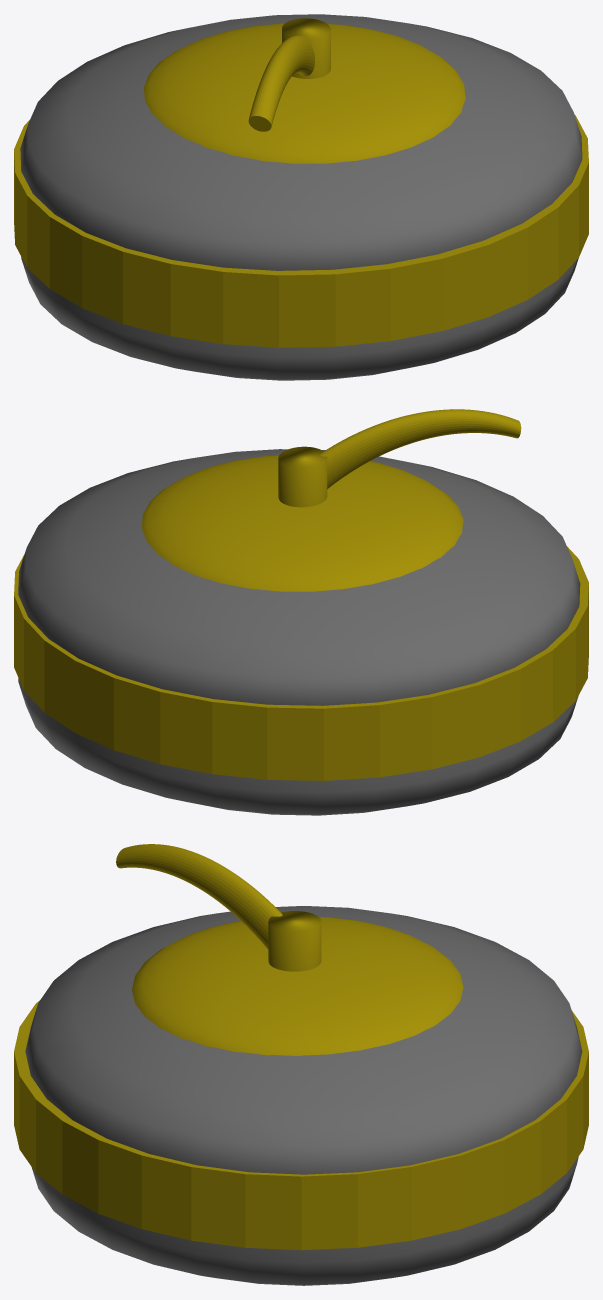
File: yellow_rock2.0.glb
The picture shows the model from 3 angles, top to bottom: view 1: azimuth 30°, elevation 25°; view 2: azimuth 150°, elevation 25°; view 3: azimuth 270°, elevation 25°; orthographic projection.
Parts seen in each view (by area): view 1: Sphere, Cylinder.002, Sphere.001, Cylinder, Cylinder.001; view 2: Sphere, Cylinder.002, Sphere.001, Cylinder, Cylinder.001; view 3: Sphere, Cylinder.002, Sphere.001, Cylinder, Cylinder.001.
Boxes of the visible parts, x1,y1,x2,y2 form: Sphere: (20,14,582,380); Cylinder.002: (14,115,588,347); Sphere.001: (144,23,465,163); Cylinder: (248,35,314,131); Cylinder.001: (282,18,330,78); Sphere: (18,449,580,815); Cylinder.002: (14,546,588,780); Sphere.001: (141,455,463,591); Cylinder: (319,409,521,488); Cylinder.001: (278,446,327,507); Sphere: (25,906,582,1285); Cylinder.002: (14,1000,588,1250); Sphere.001: (132,916,463,1055); Cylinder: (116,844,282,949); Cylinder.001: (268,911,321,971).
Bounding box in the file's own units: 2.39 × 1.37 × 2.32.
